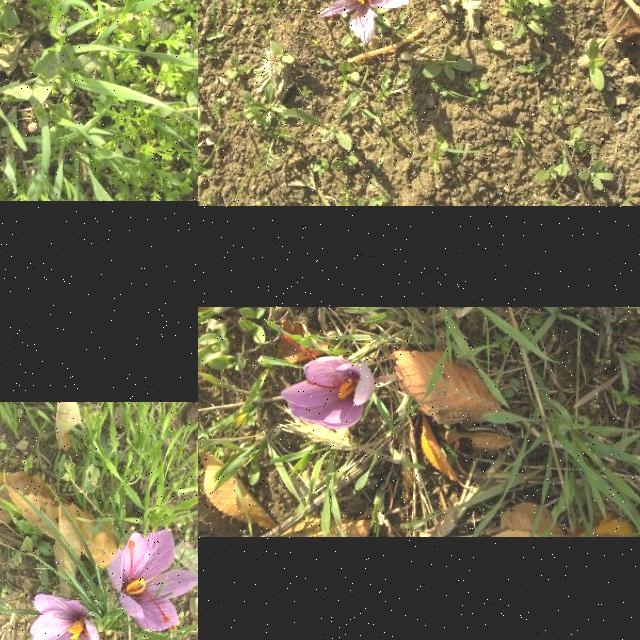flower: (280, 336, 380, 429), (111, 528, 198, 631), (313, 0, 408, 46), (27, 594, 120, 640)
